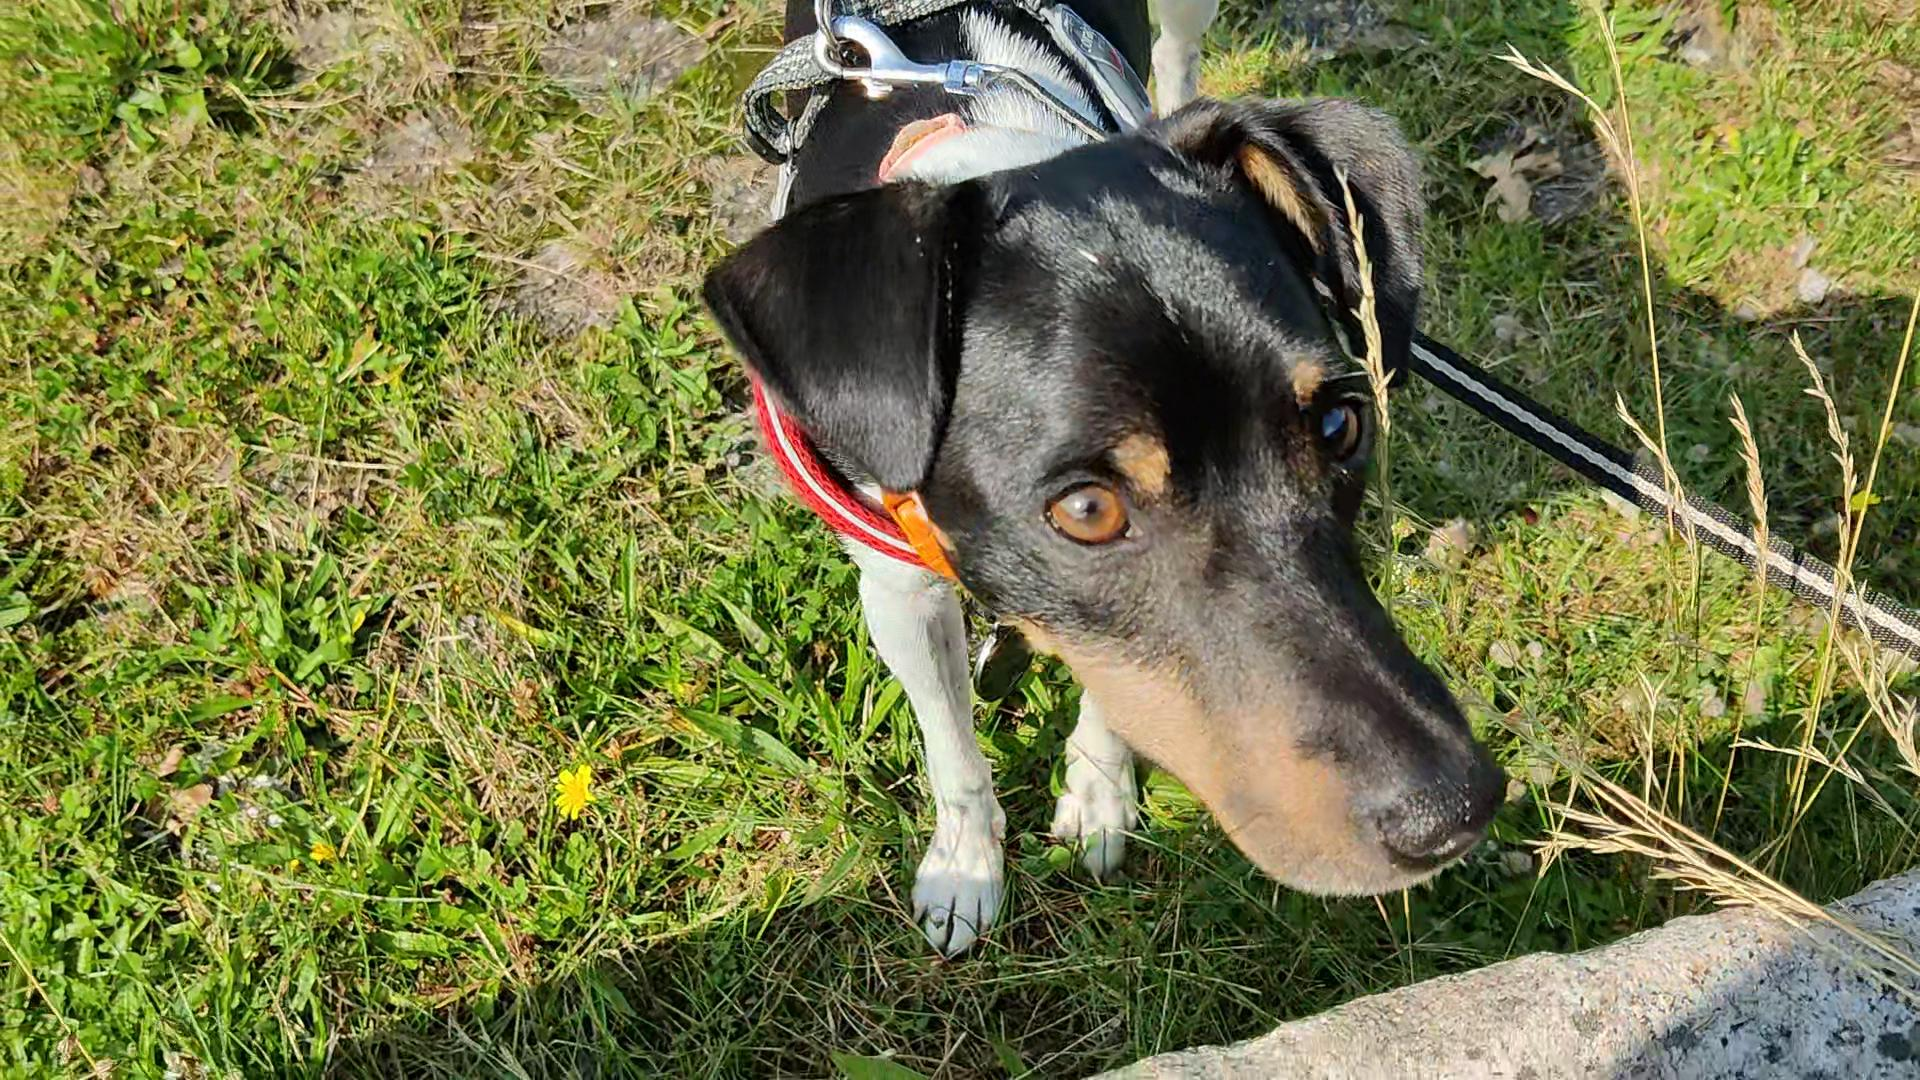Dog: (694, 0, 1534, 977)
